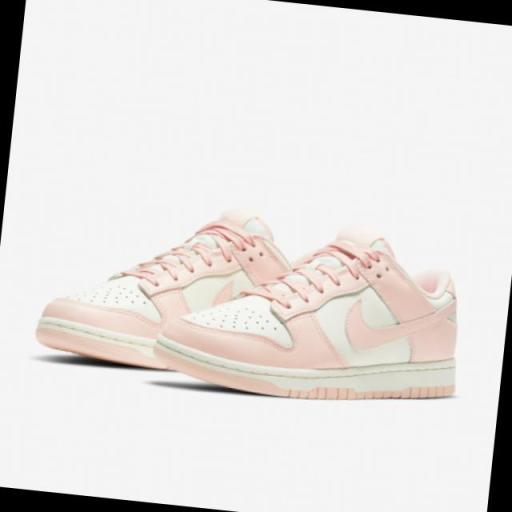Nike: (337, 292, 452, 363)
